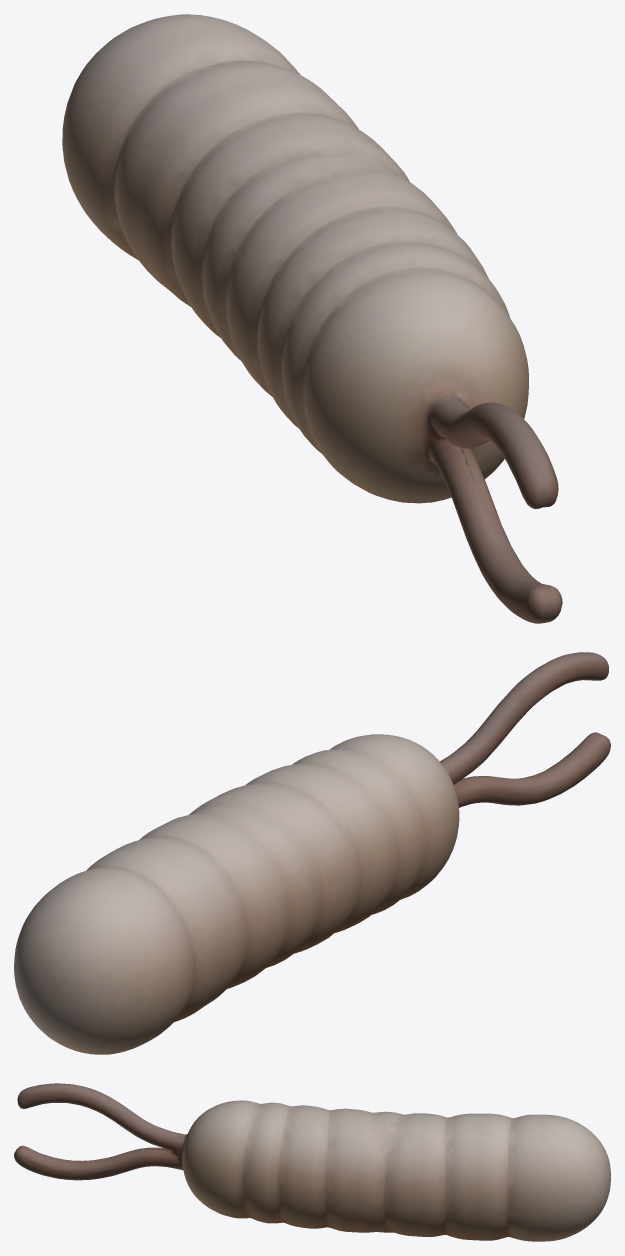
The model's file is bacteria.glb.
3 renders of one model, top to bottom at view 1: azimuth 30°, elevation 25°; view 2: azimuth 150°, elevation 25°; view 3: azimuth 270°, elevation 25°, orthographic. The views are drawn at different scales.
Visible parts, largest first — view 1: Mesh_0; view 2: Mesh_0; view 3: Mesh_0.
Boxes of the visible parts, x1=… form: Mesh_0: x1=62, y1=14, x2=562, y2=623; Mesh_0: x1=14, y1=652, x2=610, y2=1054; Mesh_0: x1=14, y1=1083, x2=610, y2=1241.
Bounding box in the file's own units: 0.329 × 0.2496 × 1.16.
Materials: 1 (1 with a texture image).
